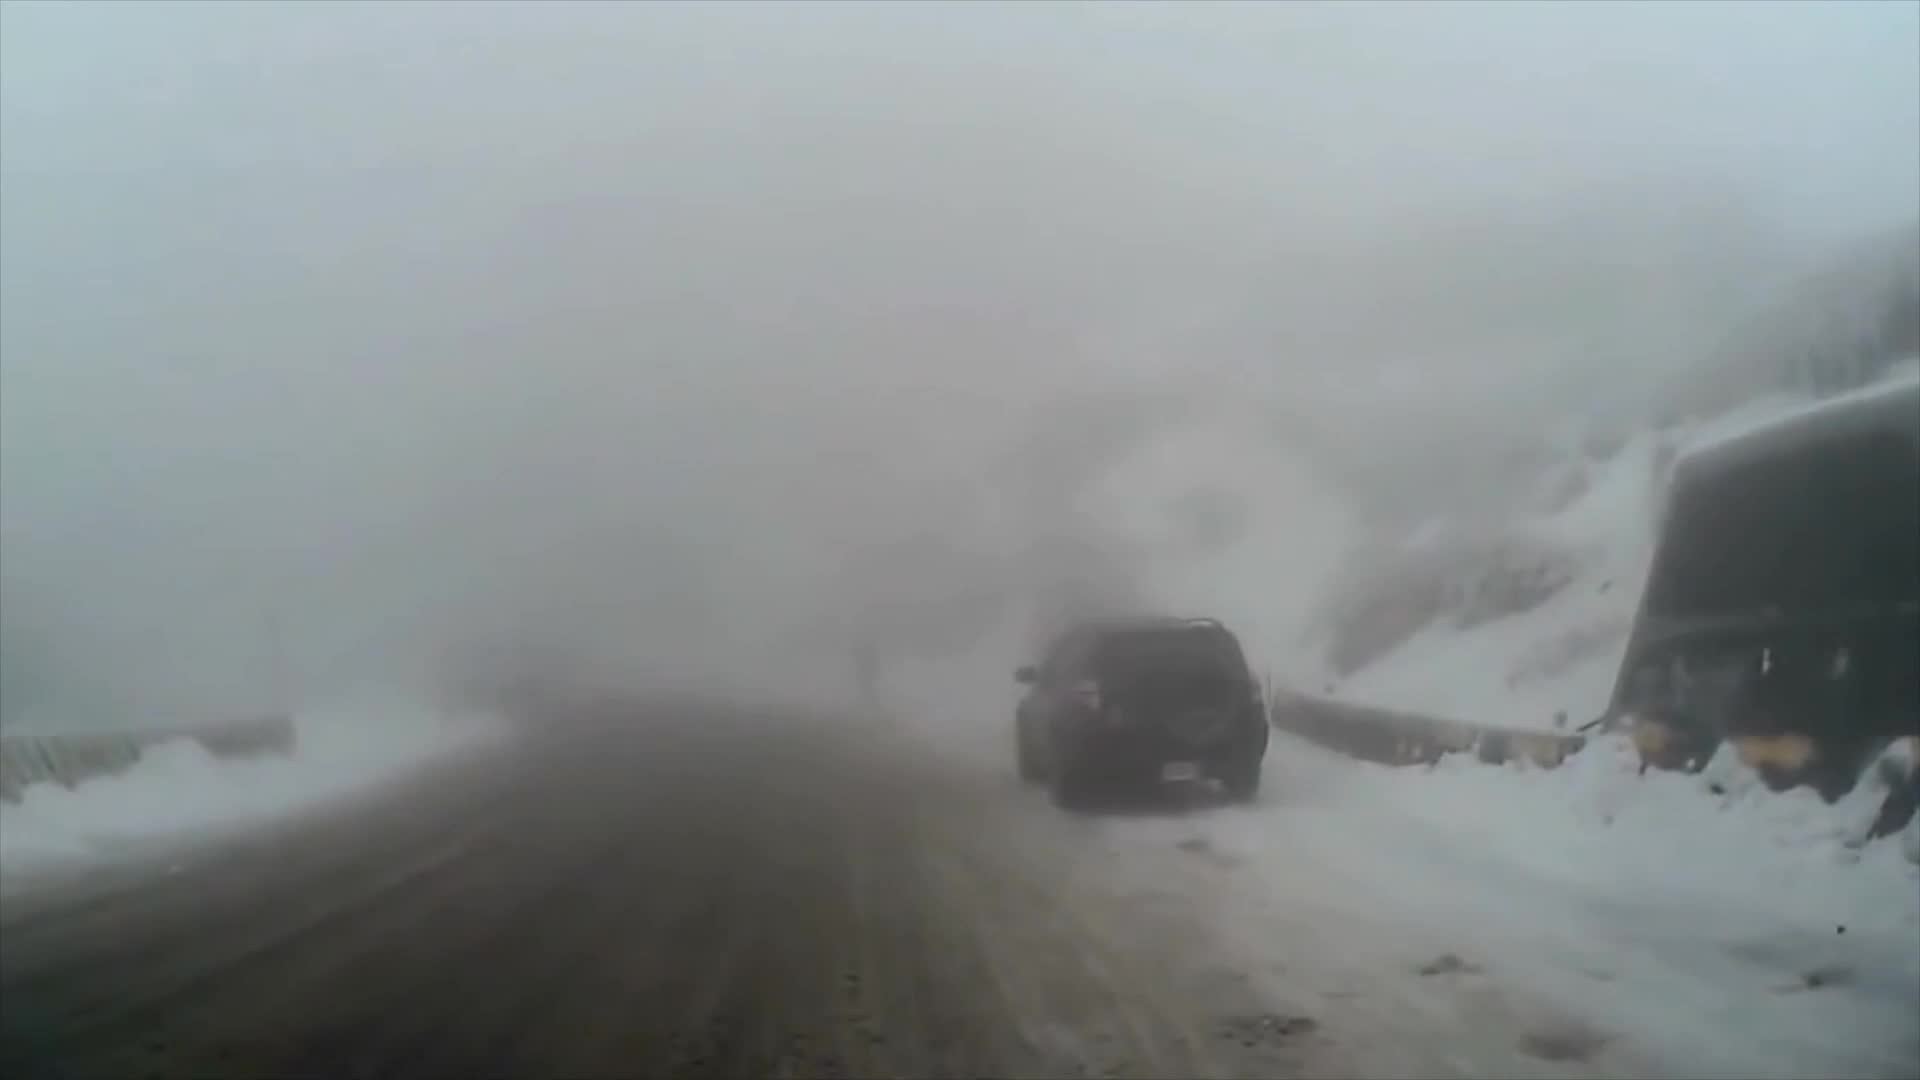vehicle: (1009, 612, 1270, 816)
